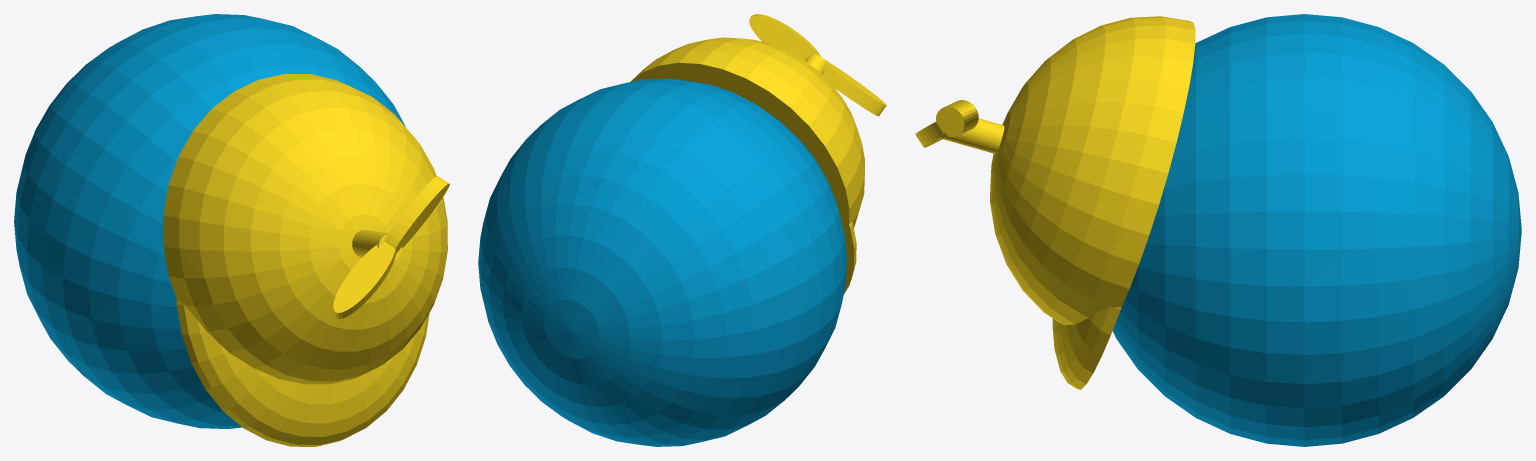
The model's file is Avater3.obj.
The picture shows the model from 3 angles, left to right: view 1: azimuth 30°, elevation 25°; view 2: azimuth 150°, elevation 25°; view 3: azimuth 270°, elevation 25°; orthographic projection. The views are drawn at different scales.
Visible parts, largest first — view 1: group_0_16768282, group_0_40919; view 2: group_0_40919, group_0_16768282; view 3: group_0_40919, group_0_16768282.
Part boxes in pixels (box(x1,y1,x2,y2)): group_0_16768282: box(163, 74, 449, 446); group_0_40919: box(14, 14, 405, 428); group_0_40919: box(478, 78, 847, 446); group_0_16768282: box(630, 14, 886, 294); group_0_40919: box(1112, 14, 1521, 446); group_0_16768282: box(915, 16, 1195, 389).
Bounding box in the file's own units: 16 × 16 × 22.33.
